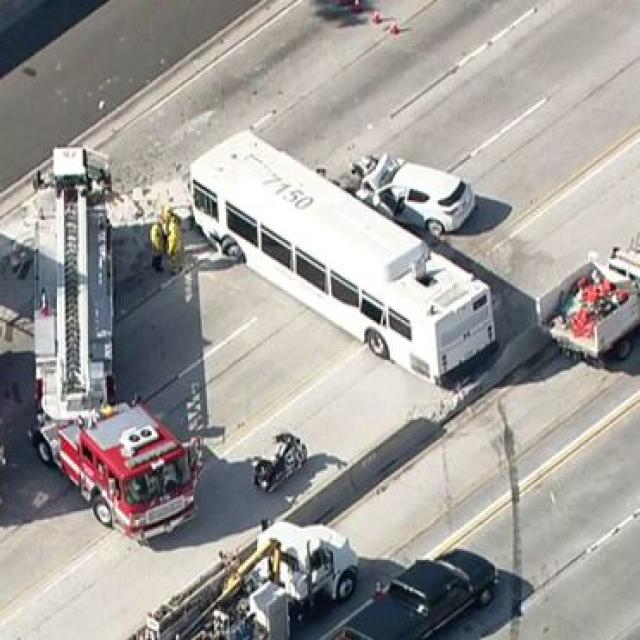traffic_incident: (178, 91, 534, 384)
